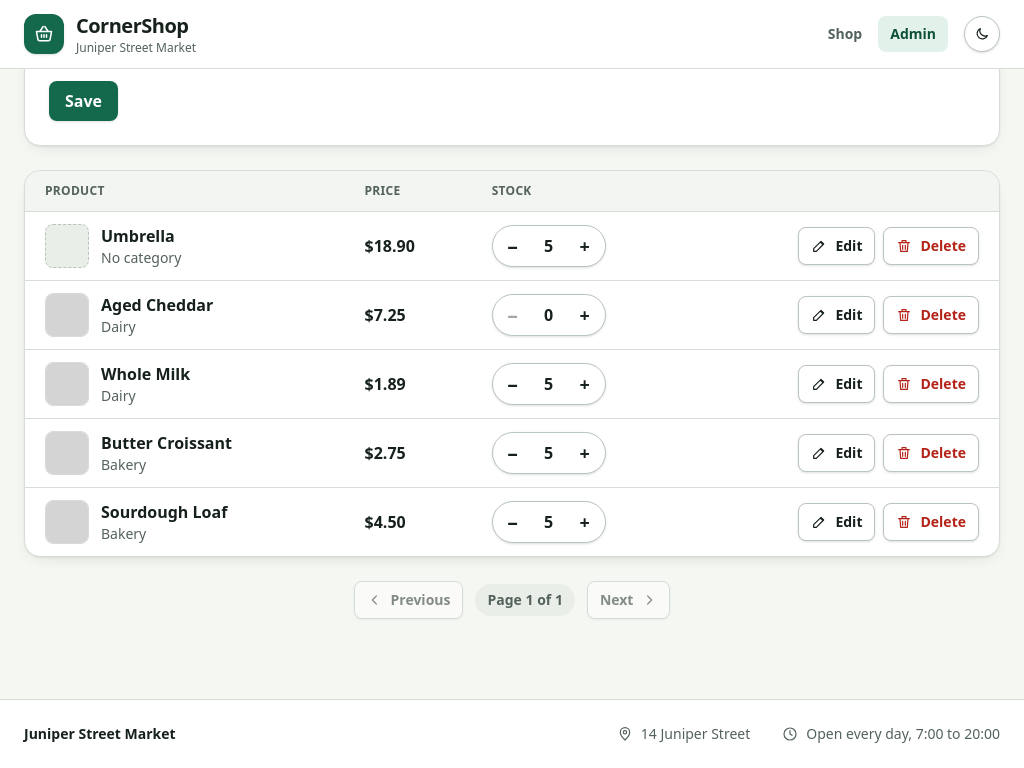
the owner panel › fills the form with the product to edit, and saves the change
(page scrolled)
Click the button with aria-label "Edit Whole Milk" at (837, 384), box [798,365,876,403]
(page scrolled)
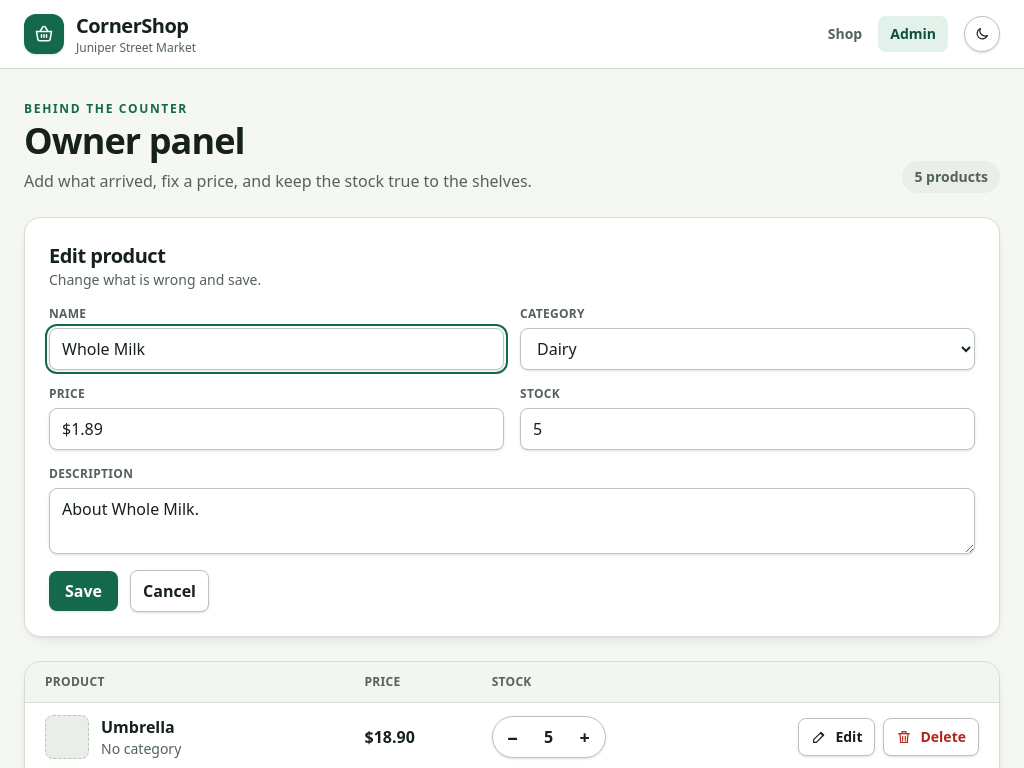
Now the field labelled "Name" holds "Whole Milk"
Now the number field labelled "Stock" holds "5", box [520,408,975,450]
Now the dropdown labelled "Category" shows "Dairy", box [520,328,975,370]
Replace the text in the field labelled "Name" with "Whole Milk 1 L" at (276, 349), box [49,328,504,370]
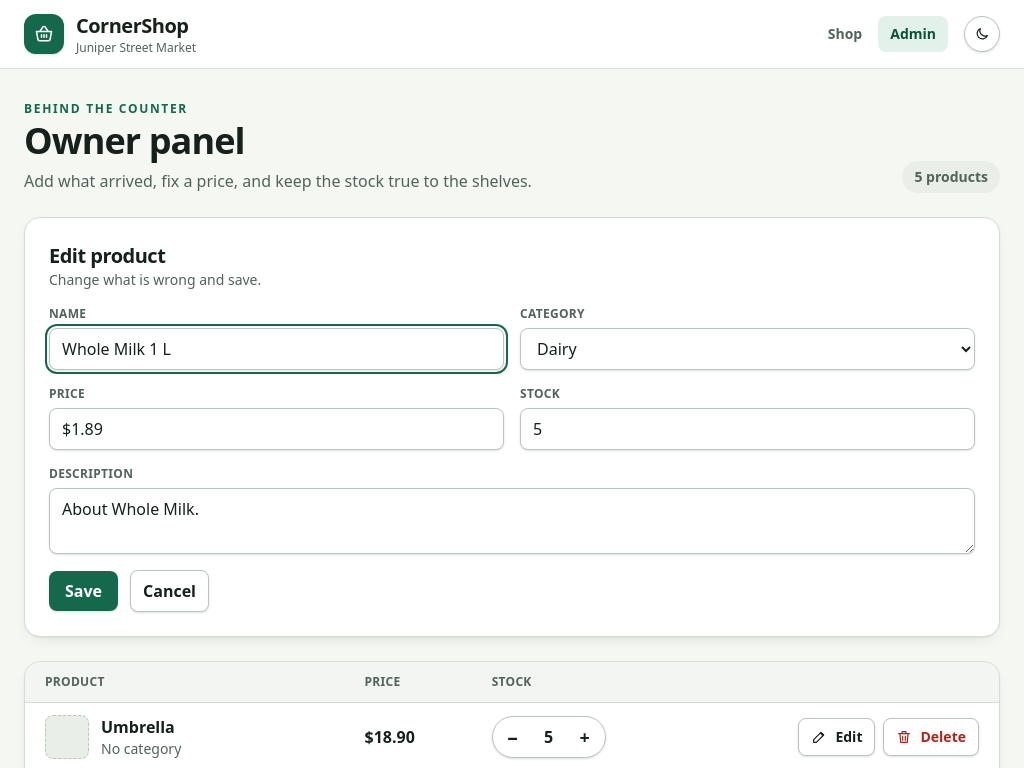
Click the button "Save" at (84, 591), box [49,571,118,611]
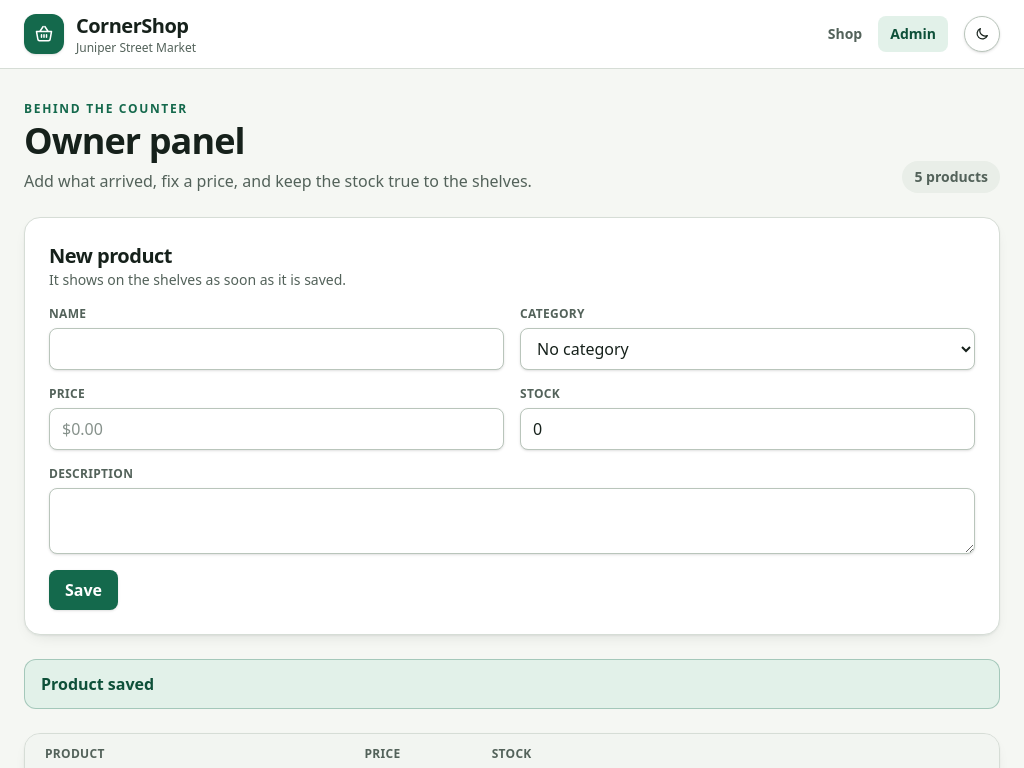
Now the message reads "Product saved", box [41,673,154,695]
Now the field labelled "Name" is empty, box [49,328,504,370]
